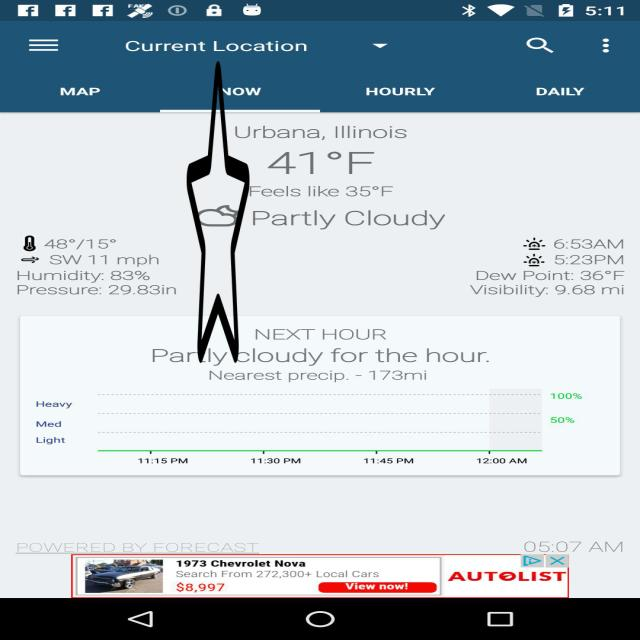forced continuity: (187, 54, 250, 370)
